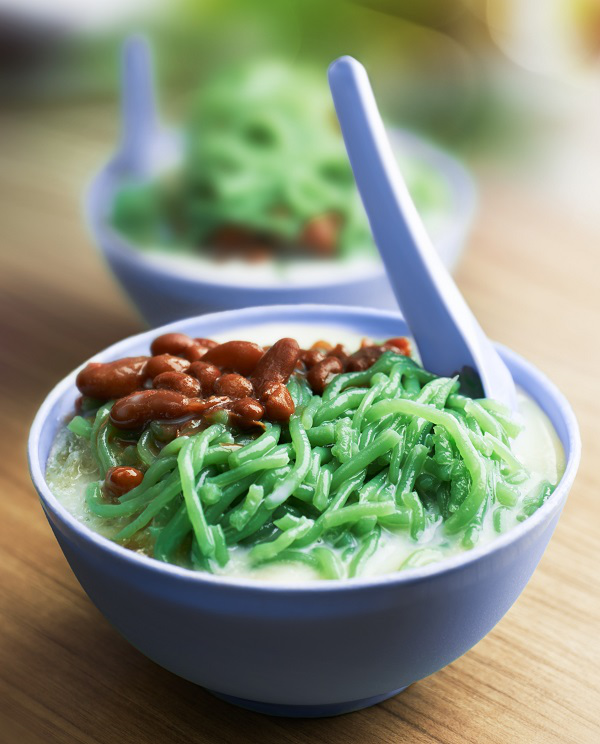Chendol: (53, 329, 554, 665), (112, 77, 441, 269)
